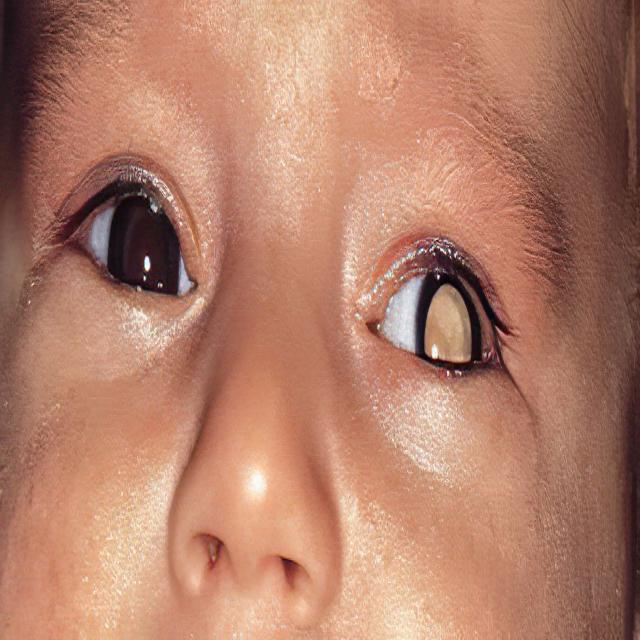reflexo-alterado: (351, 170, 526, 438)
reflexo-normal: (61, 120, 204, 366)
